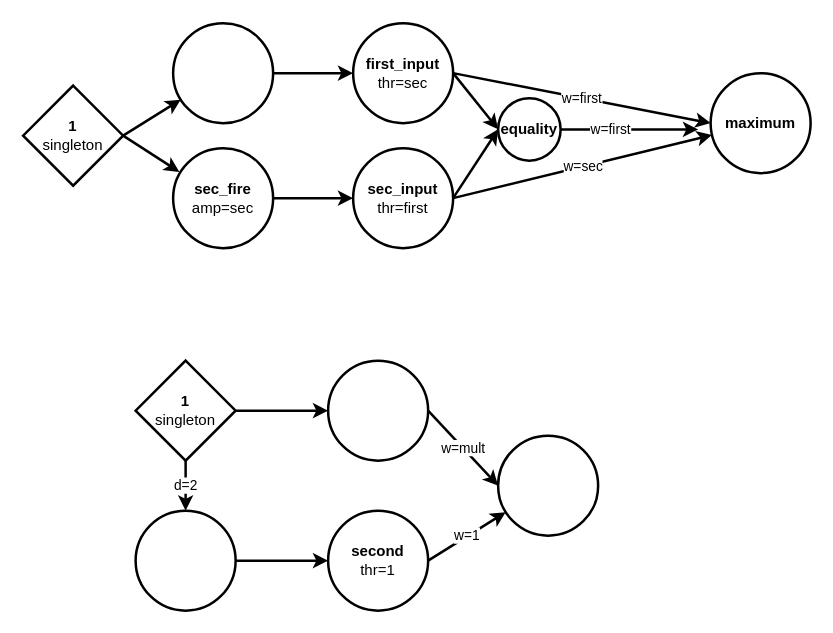
Image size: 833x633. Some labels were removed from this diagram. Here are the shapes that lost their labels. From the top down, the centre of each, then its label:
At pixel 222 72: "first_fire amp=first".
At pixel 377 410: "first thr=mult".
At pixel 547 485: "minimum".
At pixel 185 560: "mult_value amp=mult".
